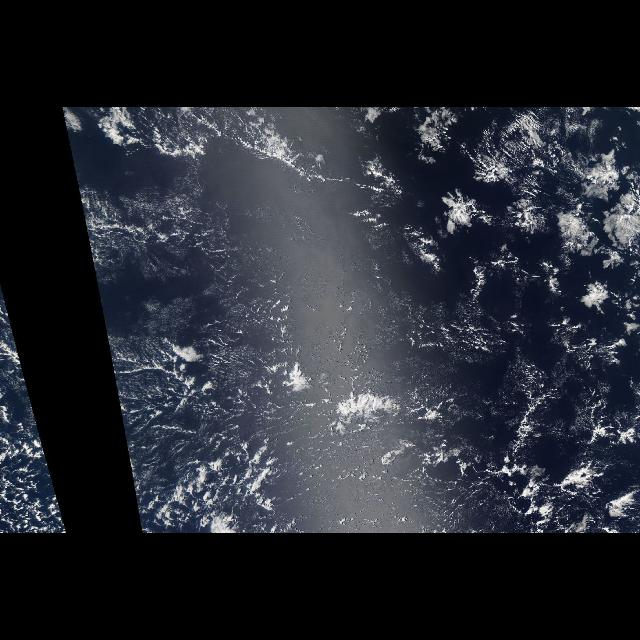Flower: (347, 110, 639, 360)
Gravel: (125, 365, 339, 533), (2, 433, 68, 531)
Sugar: (95, 190, 329, 472)
